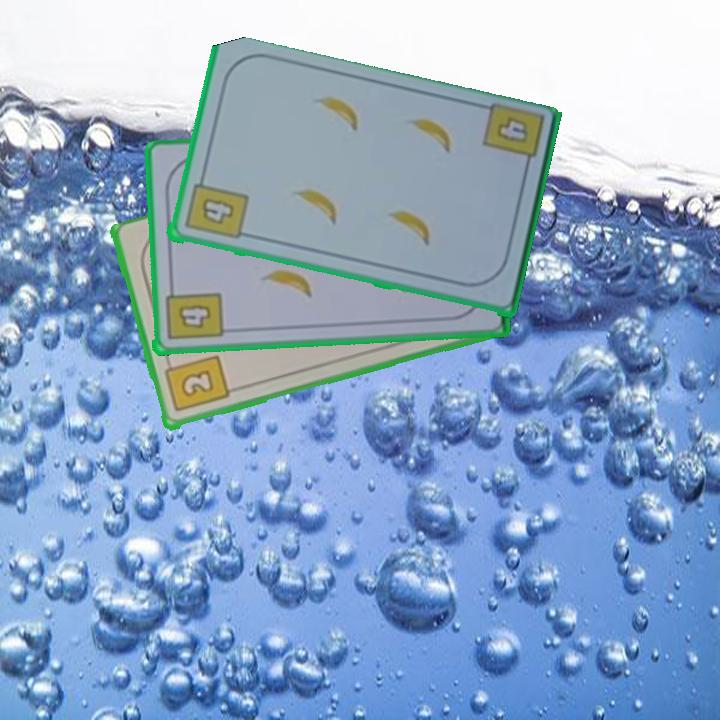2b: (160, 352, 231, 416)
4b: (478, 102, 546, 177), (180, 172, 250, 243), (161, 281, 225, 343)
